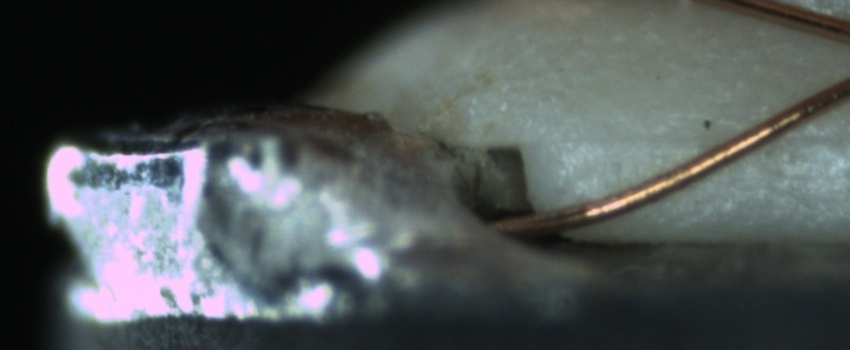DL: (569, 108, 845, 170)
